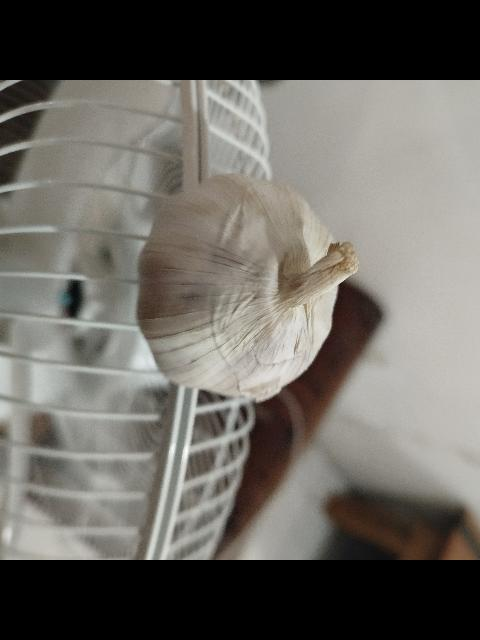garlic: (137, 172, 360, 404)
